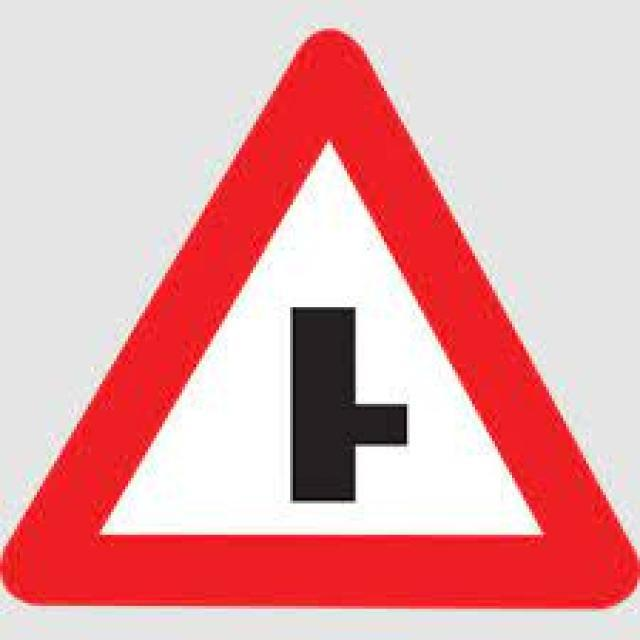side road right: (17, 23, 616, 611)
